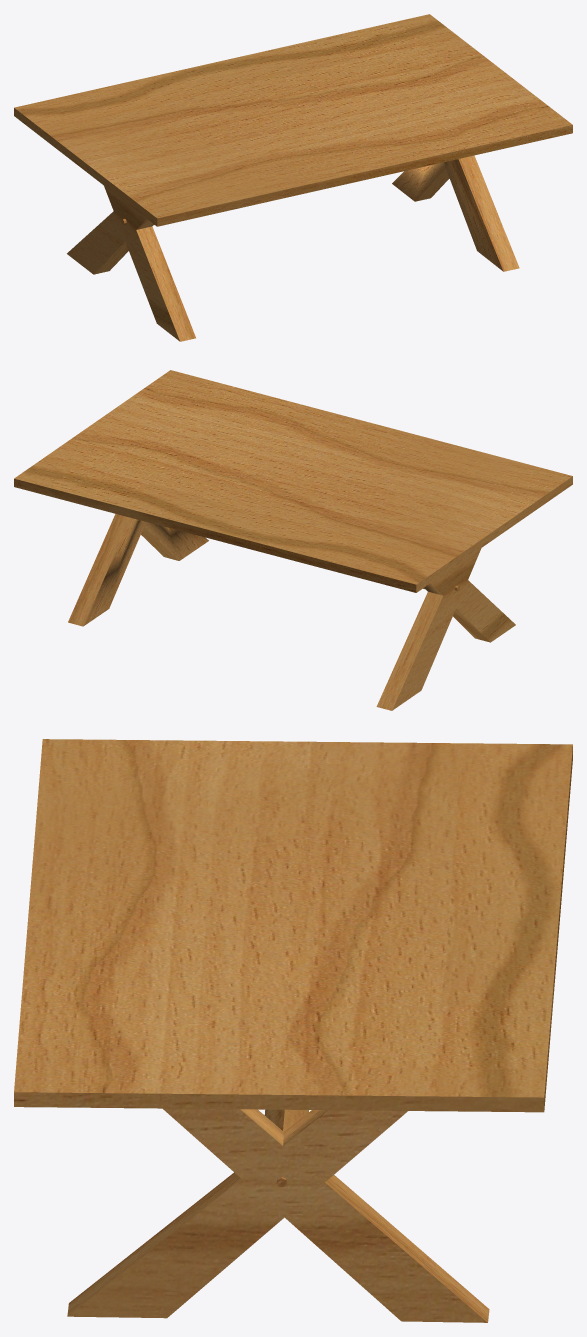
Rendered from masa_001.gltf.
3 views of the same model, one above another, from view 1: azimuth 30°, elevation 25°; view 2: azimuth 150°, elevation 25°; view 3: azimuth 270°, elevation 25° (orthographic). The views are drawn at different scales.
Parts seen in each view (by area): view 1: masa_002; view 2: masa_002; view 3: masa_002.
Boxes of the visible parts, x1,y1,x2,y2 form: masa_002: (14,14,572,341); masa_002: (14,370,572,710); masa_002: (14,739,572,1322).
Bounding box in the file's own units: 6.43 × 2.16 × 4.24.
1 material, 1 textured.
